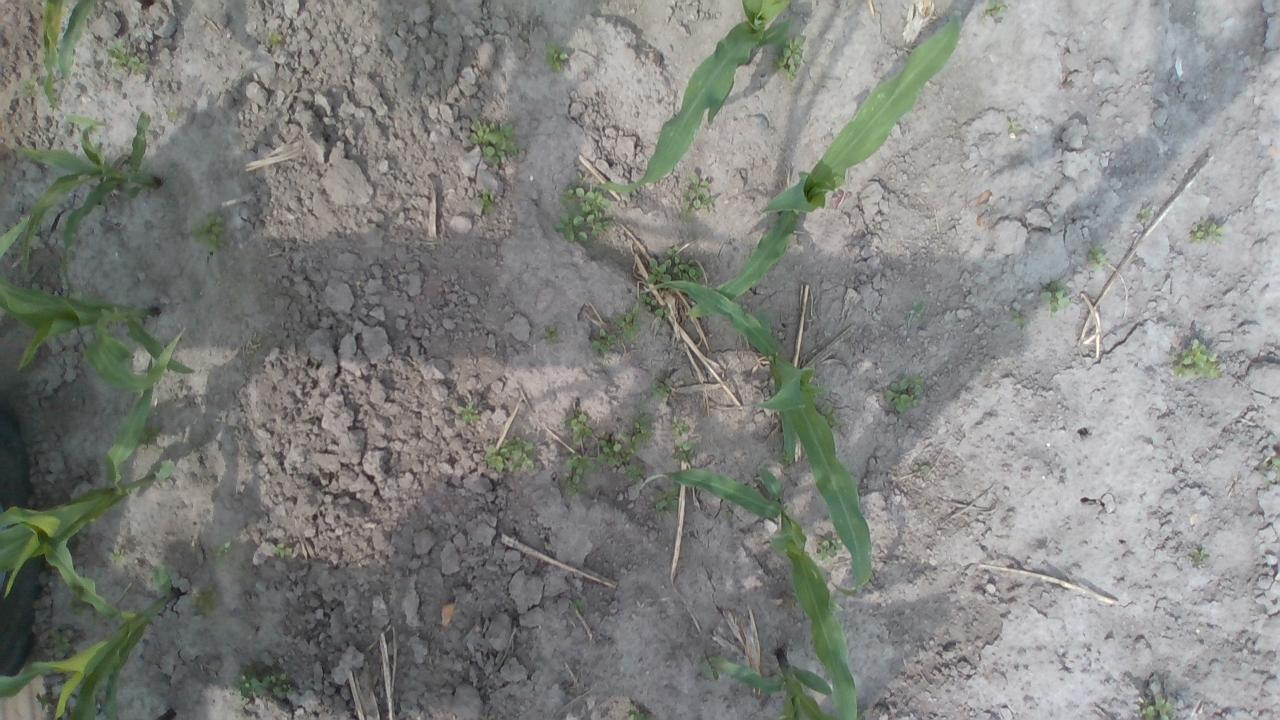Maize: (688, 9, 962, 320), (646, 274, 879, 601), (0, 325, 189, 596), (666, 464, 859, 720), (596, 0, 788, 195), (0, 216, 196, 393), (0, 538, 181, 720), (15, 109, 161, 272), (41, 0, 153, 112), (708, 646, 832, 720)
Weeds: (596, 413, 652, 481), (552, 180, 612, 243), (644, 244, 706, 288), (468, 118, 518, 165), (1173, 336, 1221, 382), (484, 434, 538, 473), (770, 33, 806, 80), (237, 668, 291, 699), (886, 374, 926, 414), (681, 172, 713, 218), (191, 212, 227, 252), (560, 454, 594, 496), (103, 39, 142, 73), (1040, 278, 1072, 313), (612, 304, 642, 341), (190, 583, 218, 617), (564, 412, 592, 444), (638, 289, 670, 317), (653, 482, 680, 514), (816, 535, 847, 562), (1139, 695, 1172, 720), (543, 40, 567, 72), (1190, 222, 1224, 242), (590, 328, 617, 353), (51, 628, 73, 658), (816, 402, 840, 428), (700, 653, 721, 682), (647, 379, 673, 402), (67, 591, 91, 615), (673, 441, 698, 464), (138, 421, 160, 446), (215, 539, 237, 564), (1088, 246, 1106, 268), (982, 0, 1007, 15), (459, 403, 478, 422), (478, 190, 496, 210), (270, 540, 288, 559), (20, 78, 38, 97), (35, 686, 49, 710), (628, 706, 652, 720), (1010, 310, 1026, 330), (670, 419, 690, 434), (106, 549, 123, 566), (1004, 118, 1022, 134), (910, 302, 926, 319), (1139, 206, 1157, 219), (1194, 549, 1210, 562), (543, 326, 559, 339), (268, 31, 280, 47), (572, 598, 586, 610), (1269, 455, 1280, 468), (913, 463, 928, 472)
